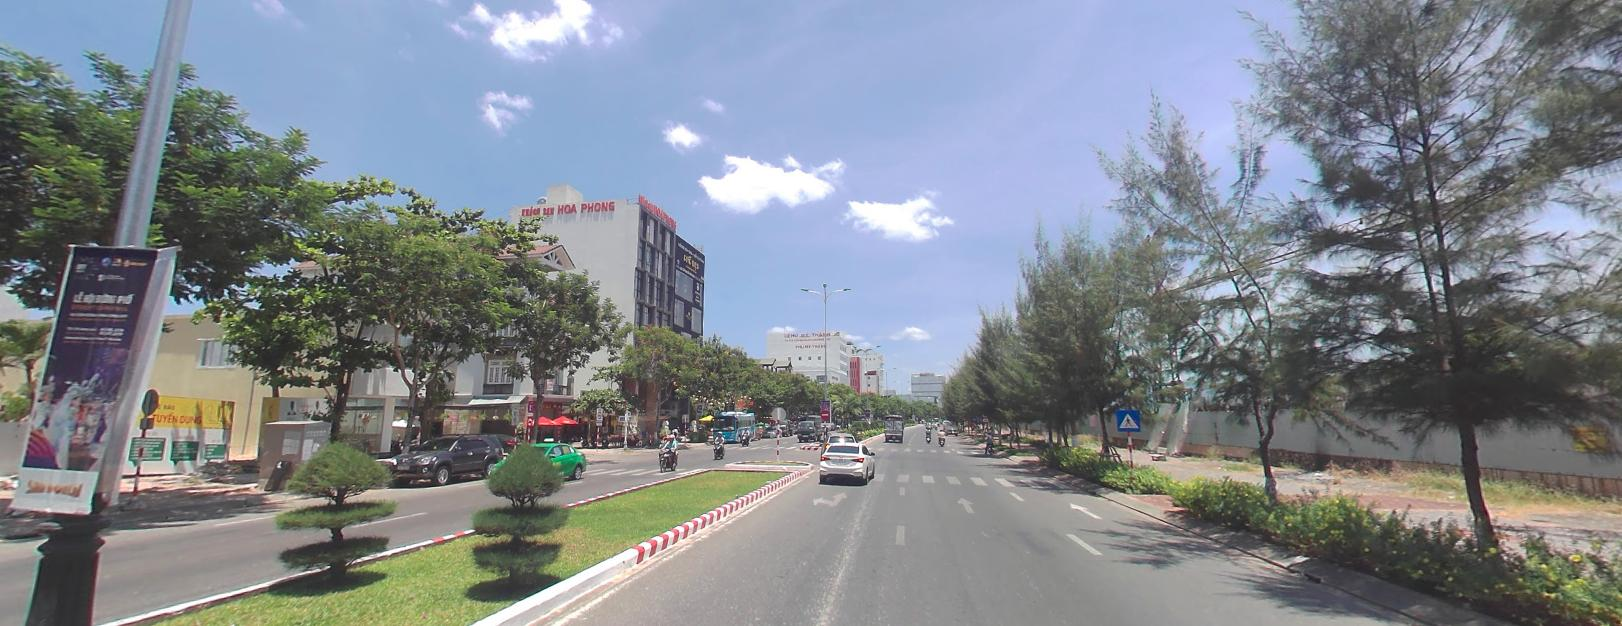Cam con lai: (527, 415, 534, 425)
Cam nguoc chieu: (819, 409, 829, 419)
